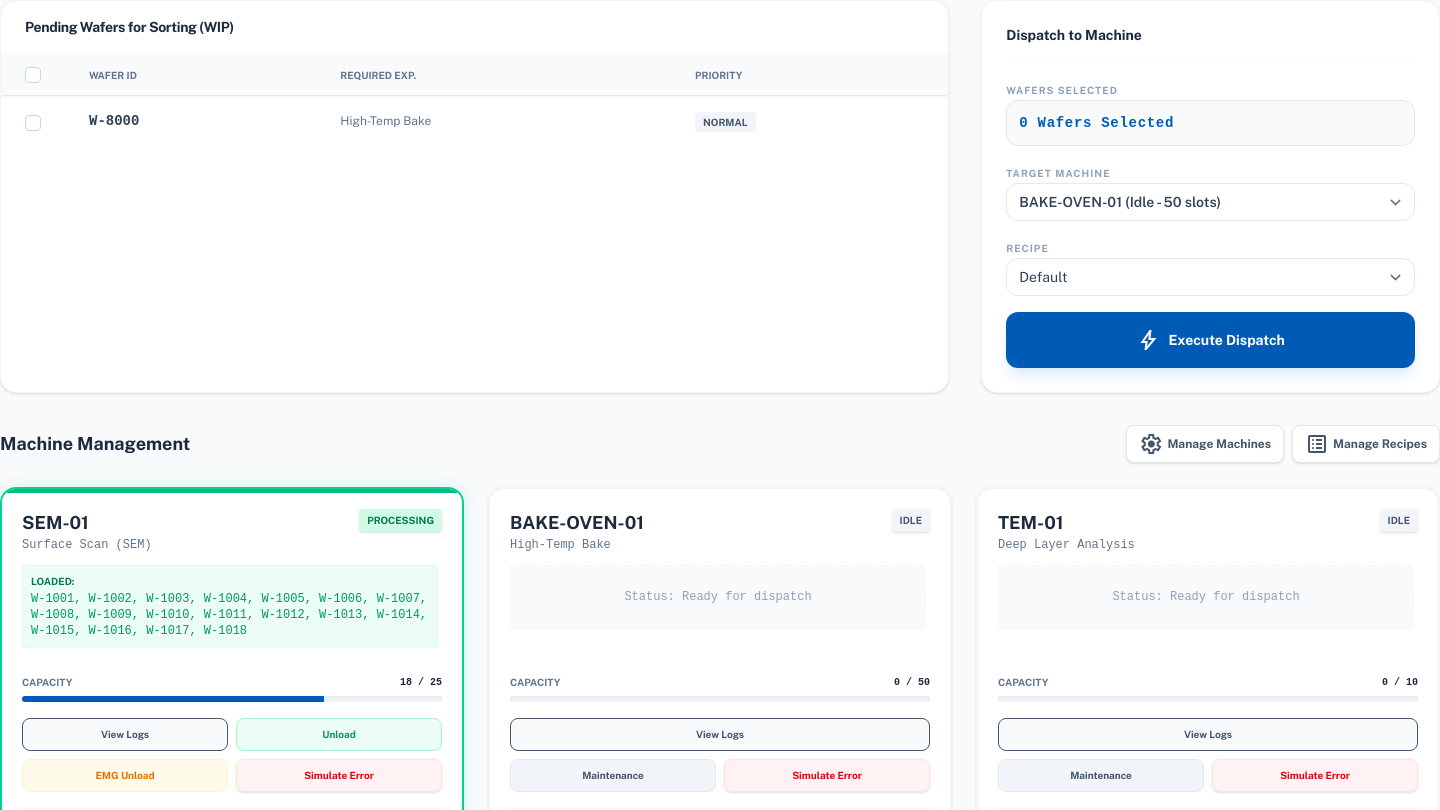
it: LabOperationsView - Enterprise Finite State Machine Testing Suite › Wafers Process (FSM) › 1. Wafer Path: WIP -> PROCESSING -> Safe Unload
The width and height of the screenshot is (1440, 810).
Click the checkbox next to "W-8000": (33, 123) [25,115,41,131]
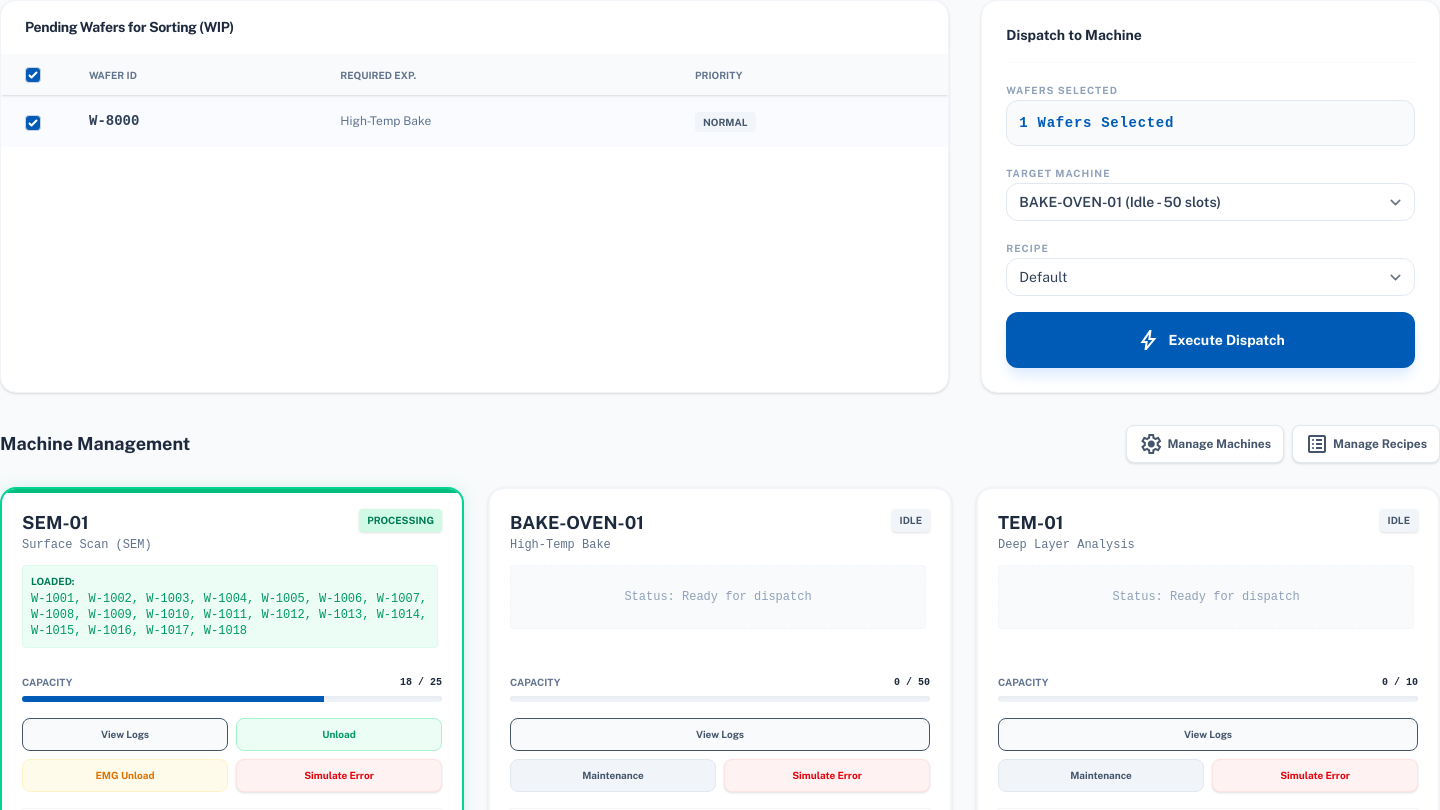
Click the button named "bolt Execute Dispatch": (1211, 340) [1006,312,1415,368]
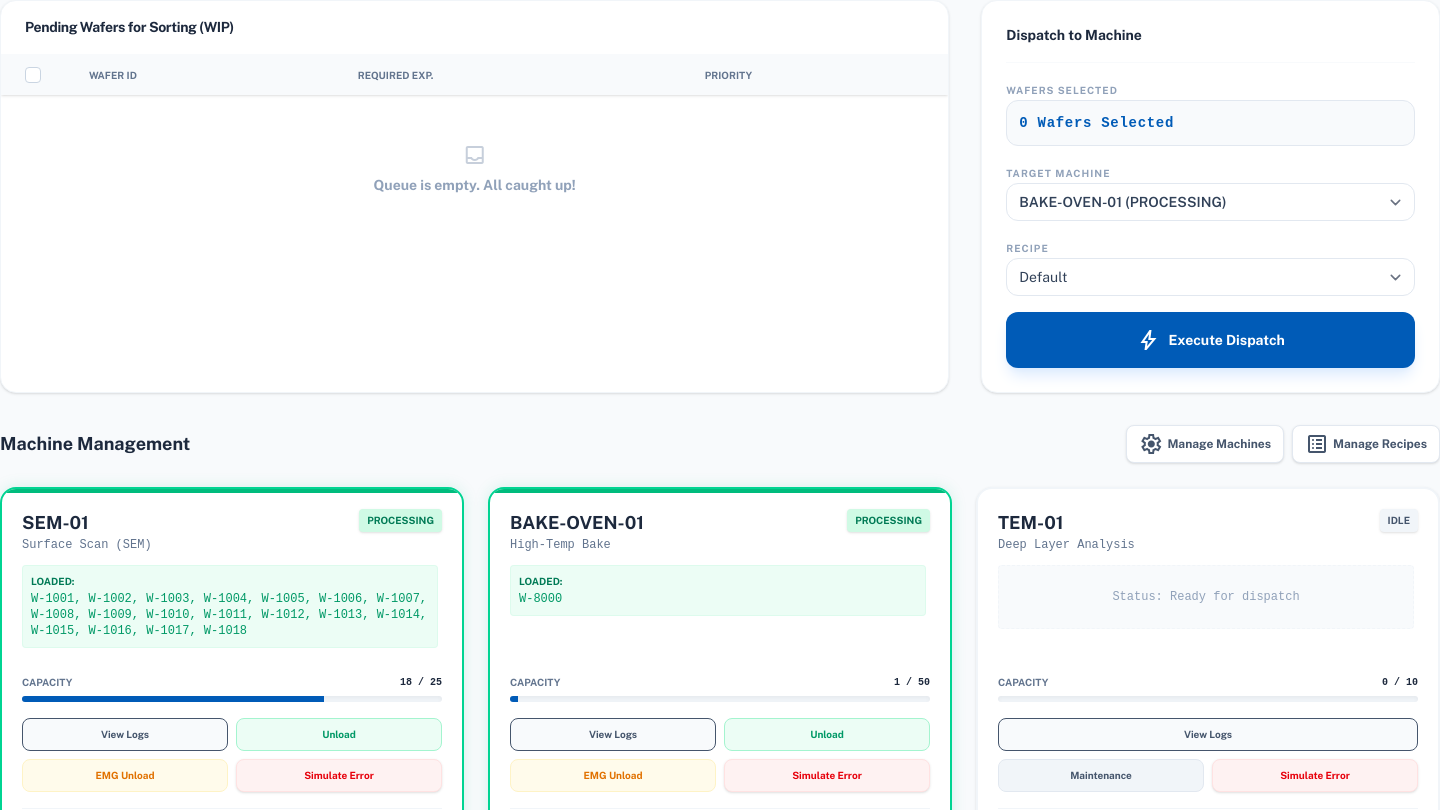
Click the button "Unload" below "W-8000": (827, 734) [724,718,930,751]
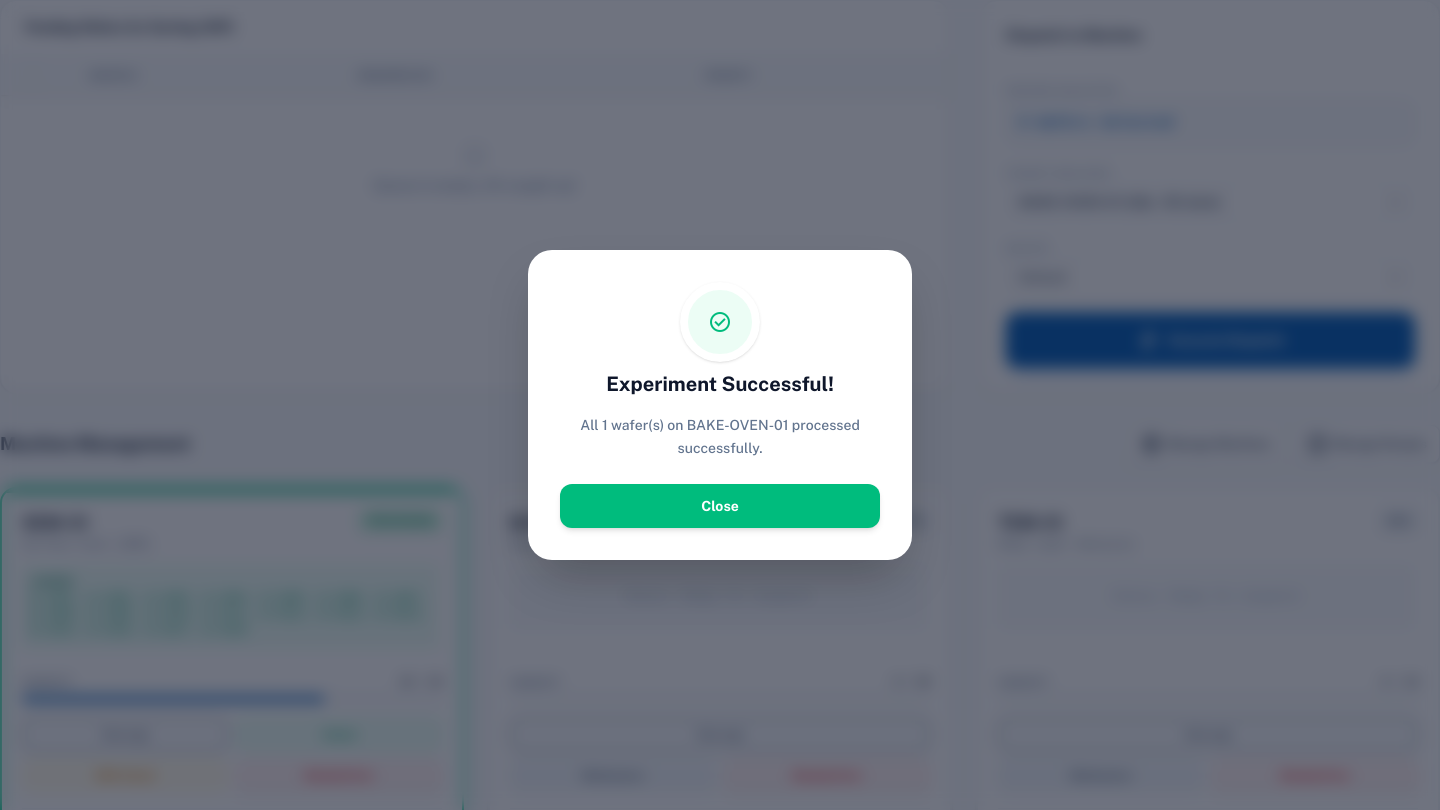
Expected: the text "IDLE" is shown, [892,509,930,532]
Expected: the heading "Experiment Successful!" is shown, [606,372,834,396]
